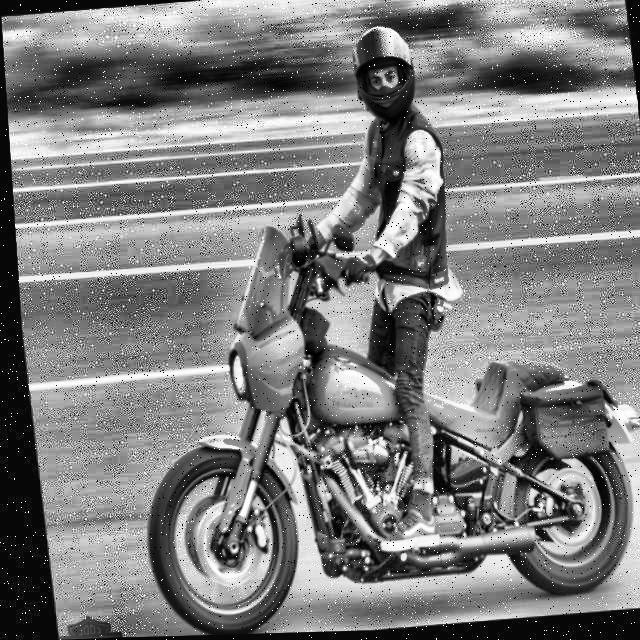Helmet: (345, 24, 422, 130)
